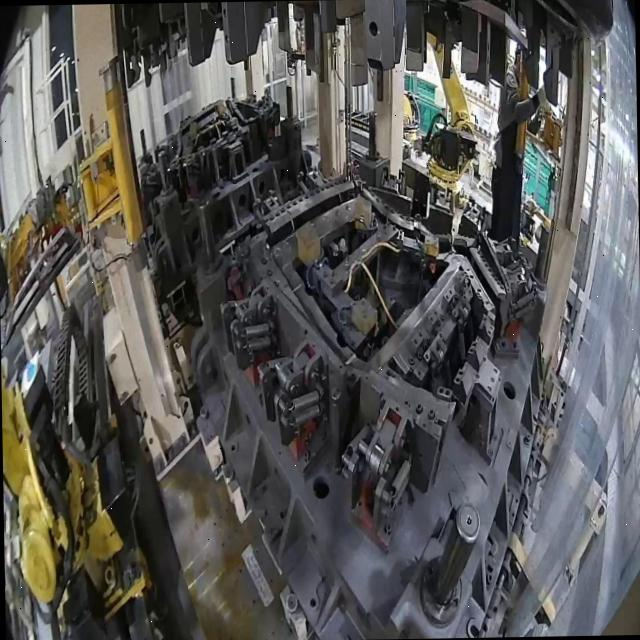Person: (486, 41, 556, 248)
